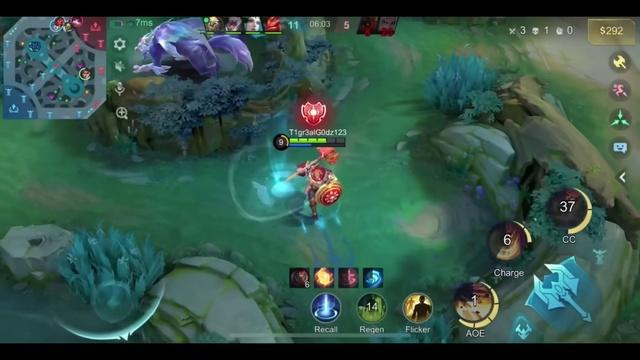Adc_Aliado: (55, 17, 66, 27)
Arbusto: (58, 225, 164, 321), (426, 54, 497, 114)
Buff_blue: (134, 17, 252, 76)
Exp_Aliado: (79, 67, 92, 81)
Hechizo_Batalla: (403, 293, 432, 323)
Mid_Aliado: (51, 20, 61, 32)
Mid_Enemigo: (70, 16, 83, 25)
Minimapa: (4, 16, 108, 122)
Roamer_Aliado: (64, 21, 74, 34)
Tigreal: (287, 148, 342, 218)
